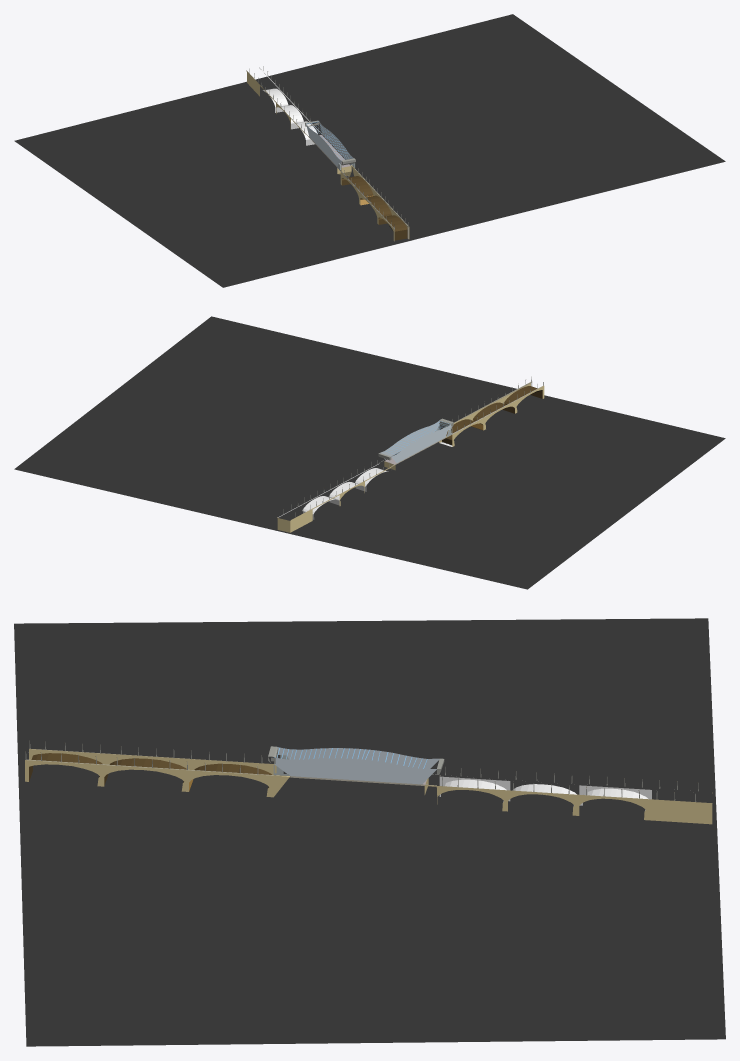
The model's file is market-street-bridge-chattanooga.glb.
3 views of the same model, one above another, from view 1: azimuth 30°, elevation 25°; view 2: azimuth 150°, elevation 25°; view 3: azimuth 270°, elevation 25° (orthographic). The views are drawn at different scales.
Visible parts, largest first — view 1: LOD0; view 2: LOD0; view 3: LOD0.
Boxes of the visible parts, x1,y1,x2,y2 form: LOD0: (14,14,725,287); LOD0: (14,316,725,589); LOD0: (14,618,725,1046).
Size of what is drawn, in the model's own units: 643 by 30.06 by 452.
Materials: 2 (2 with a texture image).
